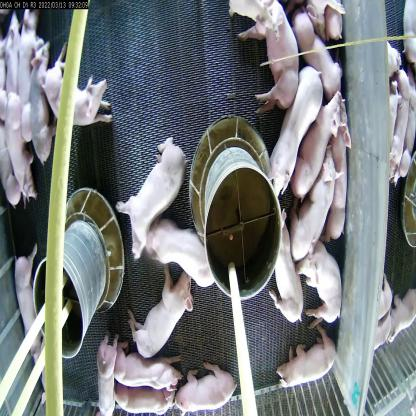Pig: (119, 117, 188, 258), (264, 63, 321, 205), (233, 0, 296, 109), (14, 246, 55, 400), (288, 11, 354, 105), (147, 223, 232, 294), (284, 155, 335, 266), (43, 48, 110, 132), (130, 278, 198, 360), (296, 94, 346, 195), (261, 211, 303, 331), (322, 86, 352, 235), (300, 240, 347, 334), (107, 328, 180, 388), (269, 330, 335, 396), (25, 59, 60, 181), (85, 317, 127, 415), (3, 82, 38, 194), (179, 363, 233, 416), (121, 390, 175, 415)
